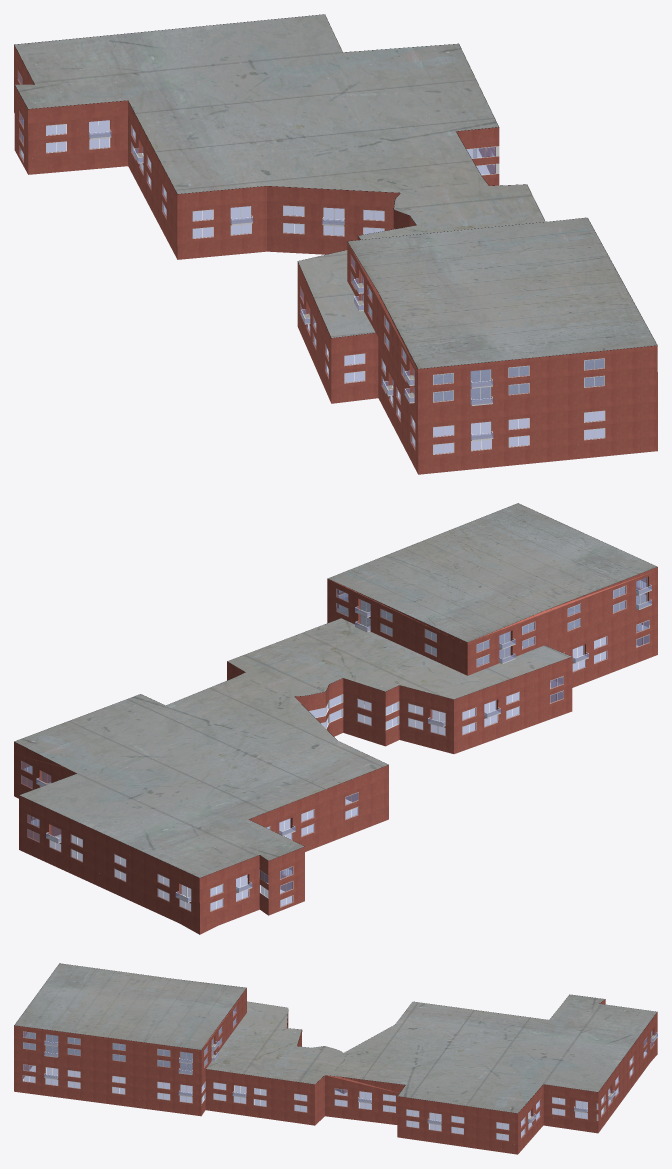
Rendered from Landmarks_model_Shape_1.obj.
The picture shows the model from 3 angles, top to bottom: view 1: azimuth 30°, elevation 25°; view 2: azimuth 150°, elevation 25°; view 3: azimuth 270°, elevation 25°; orthographic projection. The views are drawn at different scales.
Parts seen in each view (by area): view 1: CityEngineMaterial_31, CityEngineMaterial_12, CityEngineMaterial_34, CityEngineMaterial_6, CityEngineMaterial_1, CityEngineMaterial_33; view 2: CityEngineMaterial_31, CityEngineMaterial_12, CityEngineMaterial_34, CityEngineMaterial_6, CityEngineMaterial_33, CityEngineMaterial_32; view 3: CityEngineMaterial_31, CityEngineMaterial_12, CityEngineMaterial_34, CityEngineMaterial_6, CityEngineMaterial_33, CityEngineMaterial_1.
Part boxes in pixels (bbox=[...]): CityEngineMaterial_31: bbox=[14, 14, 657, 401]; CityEngineMaterial_12: bbox=[14, 45, 657, 474]; CityEngineMaterial_34: bbox=[18, 72, 604, 453]; CityEngineMaterial_6: bbox=[17, 71, 605, 454]; CityEngineMaterial_1: bbox=[14, 14, 657, 368]; CityEngineMaterial_33: bbox=[89, 133, 492, 439]; CityEngineMaterial_31: bbox=[14, 503, 656, 877]; CityEngineMaterial_12: bbox=[14, 567, 657, 934]; CityEngineMaterial_34: bbox=[21, 577, 651, 910]; CityEngineMaterial_6: bbox=[21, 577, 651, 911]; CityEngineMaterial_33: bbox=[37, 587, 651, 901]; CityEngineMaterial_32: bbox=[260, 695, 397, 897]; CityEngineMaterial_31: bbox=[15, 963, 656, 1113]; CityEngineMaterial_12: bbox=[14, 988, 657, 1154]; CityEngineMaterial_34: bbox=[23, 1007, 657, 1140]; CityEngineMaterial_6: bbox=[22, 1006, 657, 1141]; CityEngineMaterial_33: bbox=[45, 1035, 657, 1124]; CityEngineMaterial_1: bbox=[14, 963, 655, 1112].
Bounding box in the file's own units: 85.49 × 22.12 × 187.
Materials: 10 (3 with a texture image).
